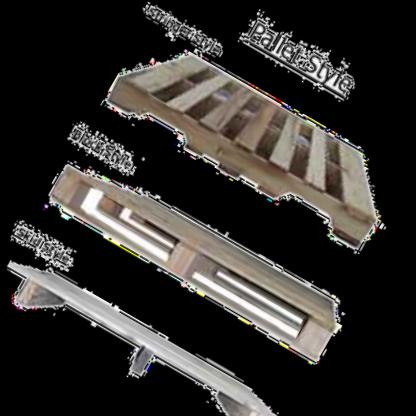BoxFace: (47, 162, 334, 360), (109, 51, 374, 250)
